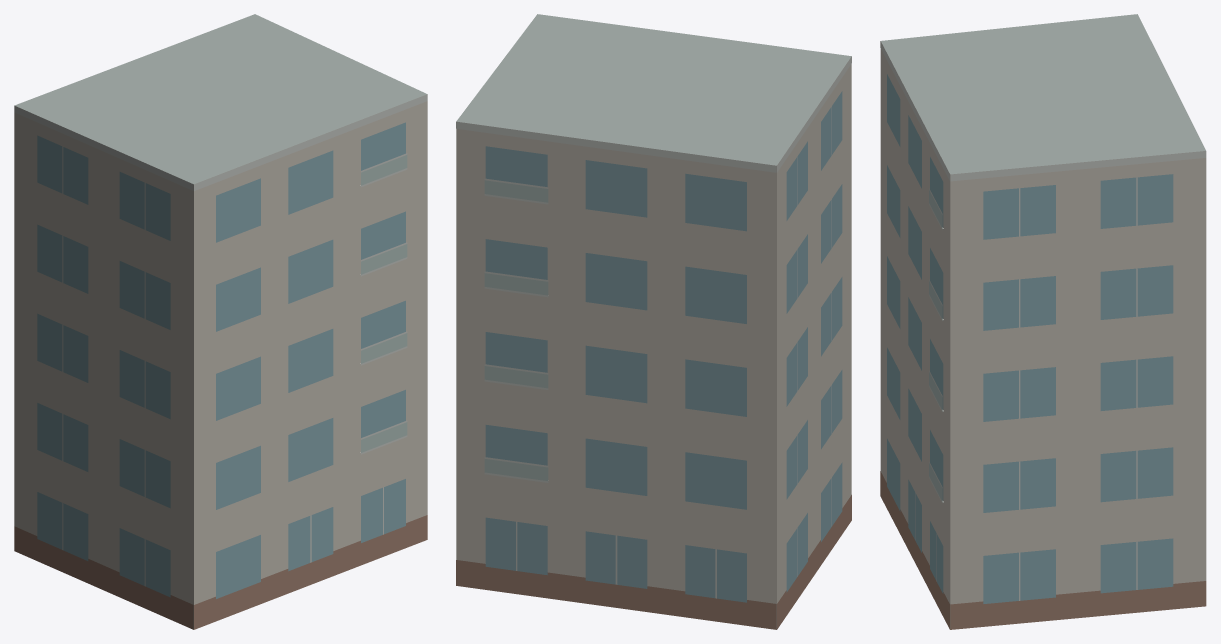
File: survey-upis-32568246.glb
3 renders of one model, left to right at view 1: azimuth 30°, elevation 25°; view 2: azimuth 150°, elevation 25°; view 3: azimuth 270°, elevation 25°, orthographic. The views are drawn at different scales.
Parts seen in each view (by area): view 1: survey-upis-32568246.tmp; view 2: survey-upis-32568246.tmp; view 3: survey-upis-32568246.tmp.
Part boxes in pixels (bbox=[...]): survey-upis-32568246.tmp: bbox=[14, 14, 427, 629]; survey-upis-32568246.tmp: bbox=[456, 14, 851, 629]; survey-upis-32568246.tmp: bbox=[880, 14, 1206, 629].
Size of the model in its own units: 12.02 by 15.9 by 10.32.
